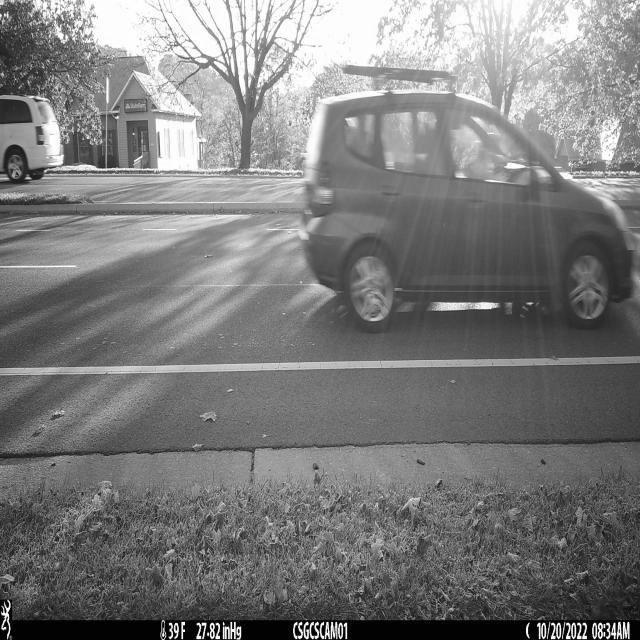Hatchback: (299, 90, 636, 332)
